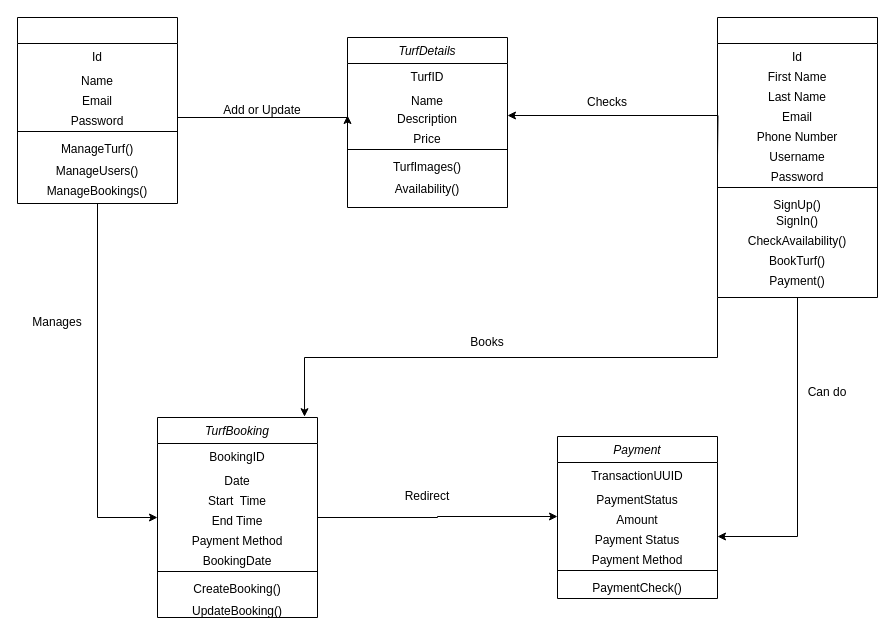
Image size: 895x638. Some labels were removed from this diagram. Here are the shapes that lost their labels. From the top down, the box of each, then its label:
(16, 16, 178, 204): Admin
(716, 16, 878, 298): Users
